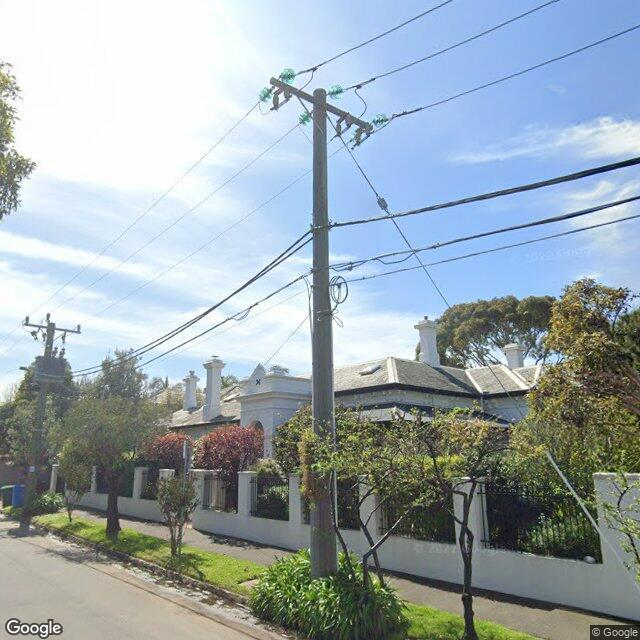HV-transmission: (259, 67, 387, 142), (26, 313, 80, 344)
crossarm: (270, 76, 373, 131), (24, 323, 80, 334)
timber-pole: (311, 88, 338, 576), (23, 323, 55, 508)
